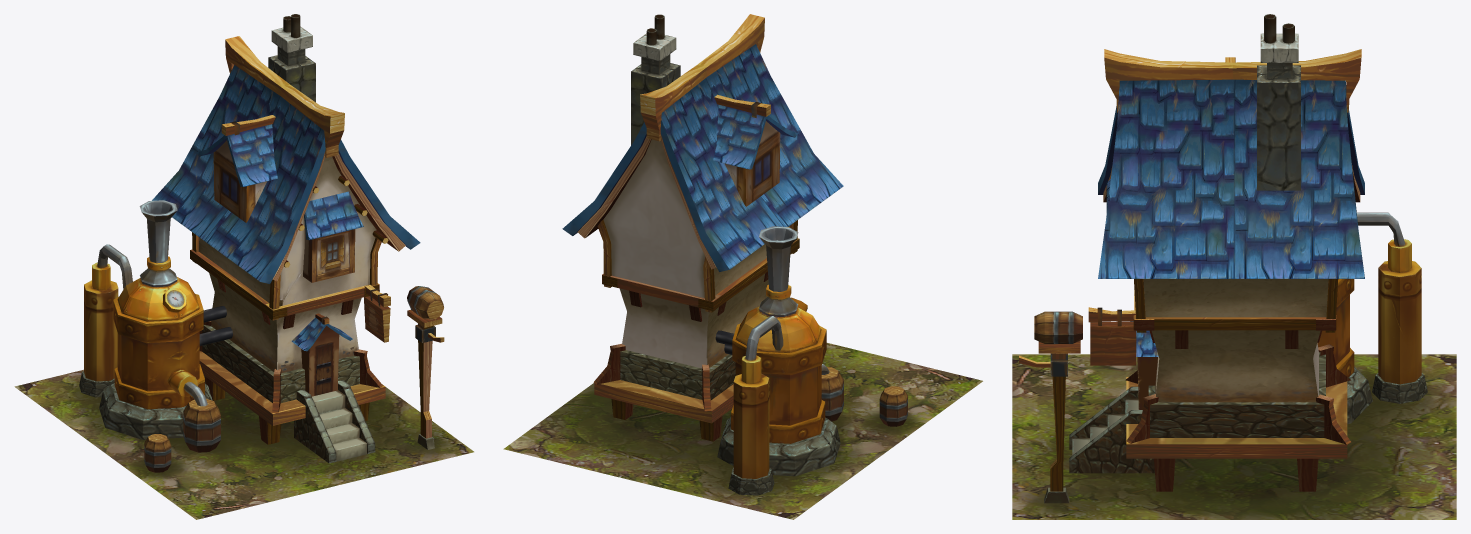
File: katongjiuwu.FBX
3 views of the same model, side by side, from view 1: azimuth 30°, elevation 25°; view 2: azimuth 150°, elevation 25°; view 3: azimuth 270°, elevation 25° (orthographic). The views are drawn at different scales.
Visible parts, largest first — view 1: Cylinder12, wa, Plane02, mutou, sgitou, qiang; view 2: Plane02, wa, Cylinder12, qiang, mutou, sgitou; view 3: wa, Plane02, mutou, sgitou, qiang, Cylinder12.
Boxes of the visible parts, x1=… form: Cylinder12: x1=84, y1=121, x2=435, y2=409; wa: x1=152, y1=65, x2=420, y2=351; Plane02: x1=14, y1=369, x2=473, y2=519; mutou: x1=144, y1=36, x2=444, y2=472; sgitou: x1=79, y1=14, x2=434, y2=463; qiang: x1=199, y1=156, x2=376, y2=373; Plane02: x1=503, y1=343, x2=982, y2=519; wa: x1=562, y1=44, x2=843, y2=271; Cylinder12: x1=715, y1=102, x2=829, y2=478; qiang: x1=603, y1=139, x2=789, y2=368; mutou: x1=577, y1=14, x2=907, y2=441; sgitou: x1=620, y1=14, x2=840, y2=495; wa: x1=1098, y1=79, x2=1364, y2=356; Plane02: x1=1012, y1=354, x2=1456, y2=519; mutou: x1=1019, y1=49, x2=1361, y2=491; sgitou: x1=1044, y1=14, x2=1427, y2=503; qiang: x1=1143, y1=279, x2=1328, y2=402; Cylinder12: x1=1050, y1=212, x2=1421, y2=409.
Bounding box in the file's own units: 322 × 421 × 365.
